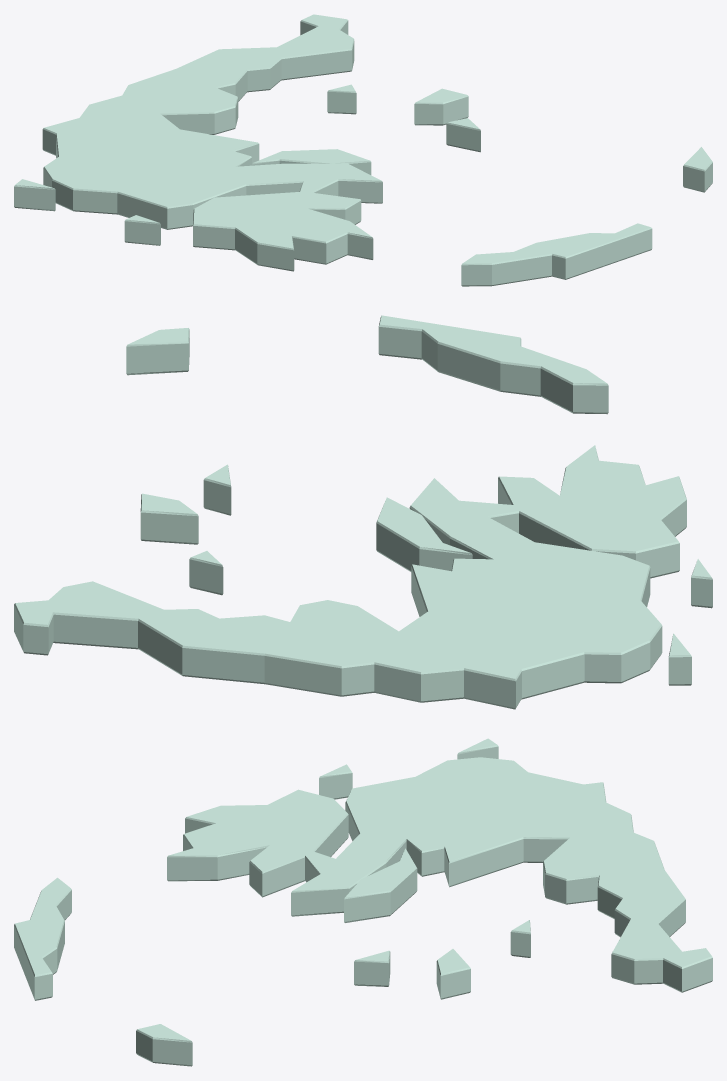
The model's file is GRC.glb.
3 views of the same model, one above another, from view 1: azimuth 30°, elevation 25°; view 2: azimuth 150°, elevation 25°; view 3: azimuth 270°, elevation 25° (orthographic). The views are drawn at different scales.
Bounding box in the file's own units: 1.72 × 0.068 × 1.68.
